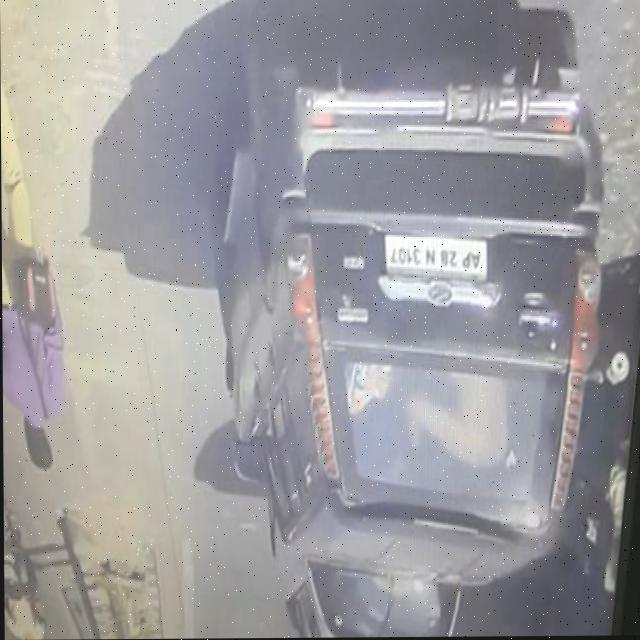plate: (383, 233, 489, 286)
